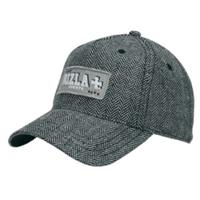hat: (8, 30, 194, 166)
